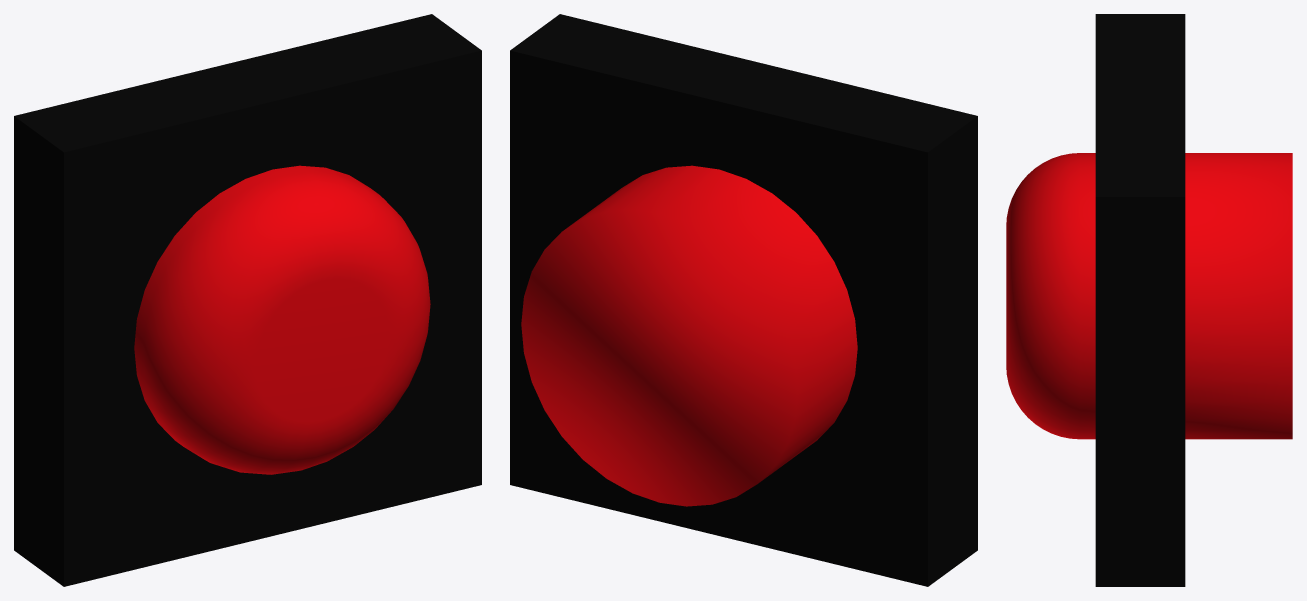
The model's file is Button.fbx.
The picture shows the model from 3 angles, left to right: view 1: azimuth 30°, elevation 25°; view 2: azimuth 150°, elevation 25°; view 3: azimuth 270°, elevation 25°; orthographic projection. The views are drawn at different scales.
Parts seen in each view (by area): view 1: Box, Button; view 2: Box, Button; view 3: Button, Box.
Boxes of the visible parts, x1,y1,x2,y2 form: Box: (14, 14, 481, 586); Button: (134, 165, 430, 474); Box: (510, 14, 977, 586); Button: (521, 165, 857, 506); Button: (1006, 153, 1292, 439); Box: (1095, 14, 1185, 586).
Bounding box in the file's own units: 10.8 × 10.72 × 7.15.
